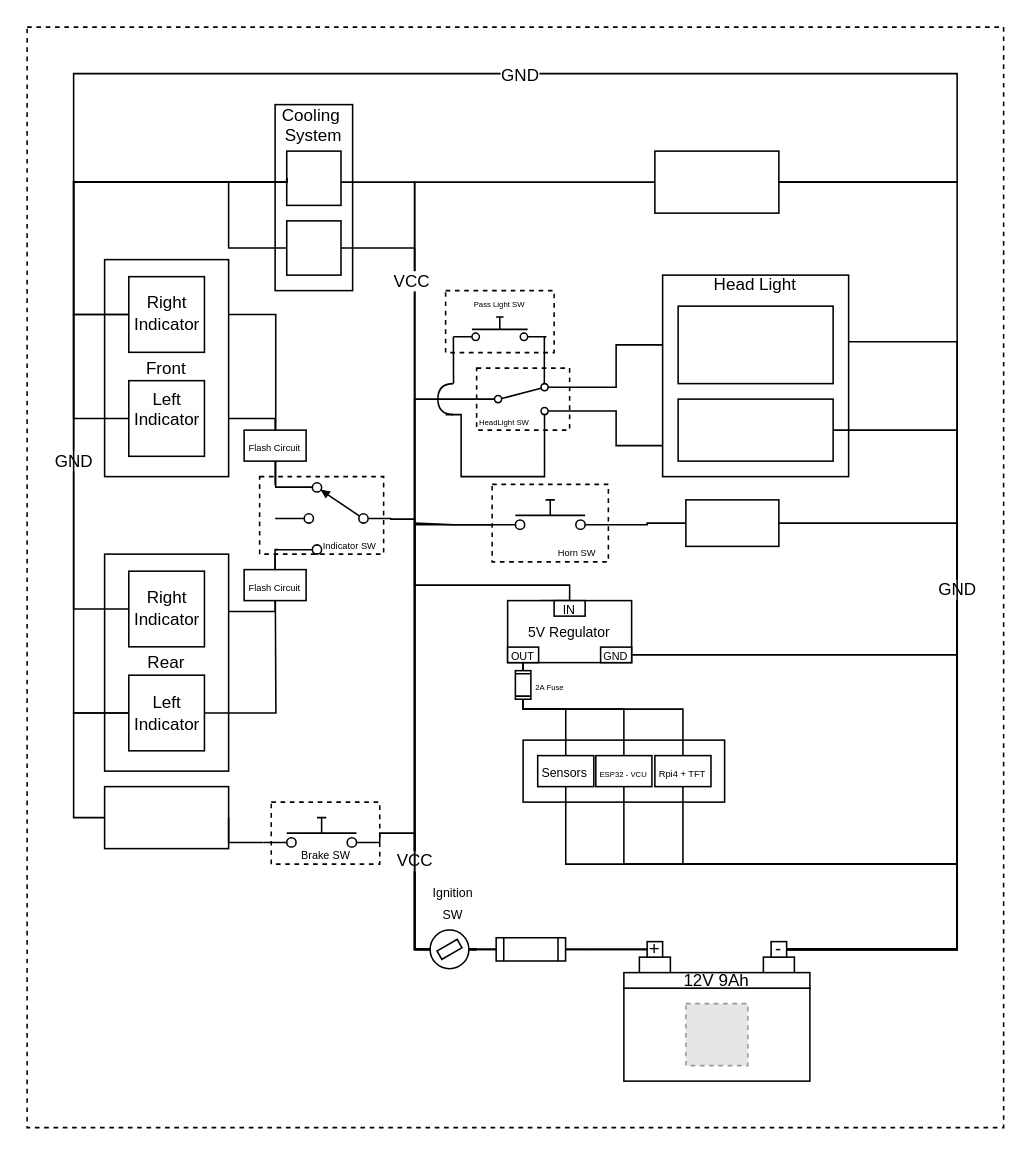
Some shapes in this 1031 by 1155 pixel diagram are drawn without their labels. Grey dashed boxes stand in for pictures. Here are the shapes that lost their labels. From the top down, the centre of each, then its label:
At (313,177): "Fan 1".
At (716,181): "Rear Light".
At (313,247): "Fan 2".
At (755,344): "High Beam".
At (755,429): "Low Beam".
At (731,522): "Horn".
At (166,817): "Brake light".
At (530,948): "15A Fuse".
